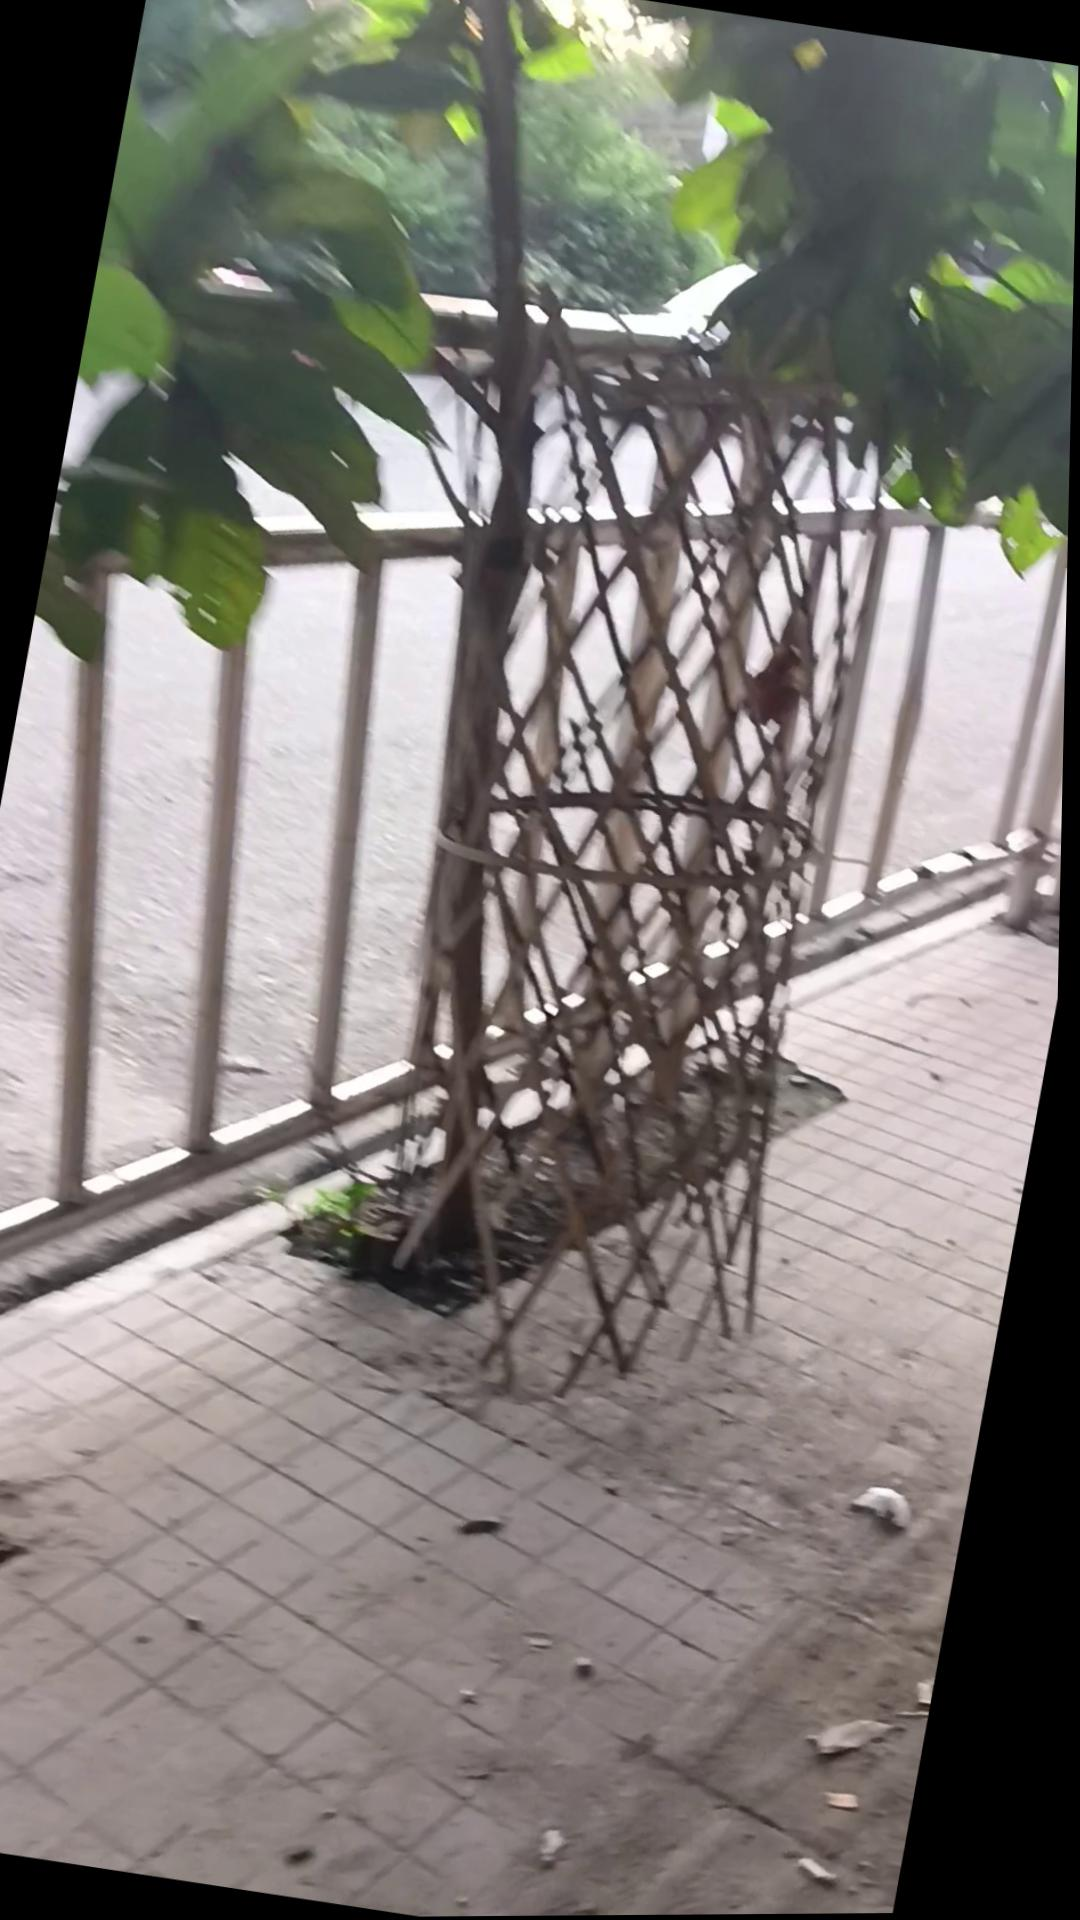Potted-plant: (0, 741, 1067, 1920)
